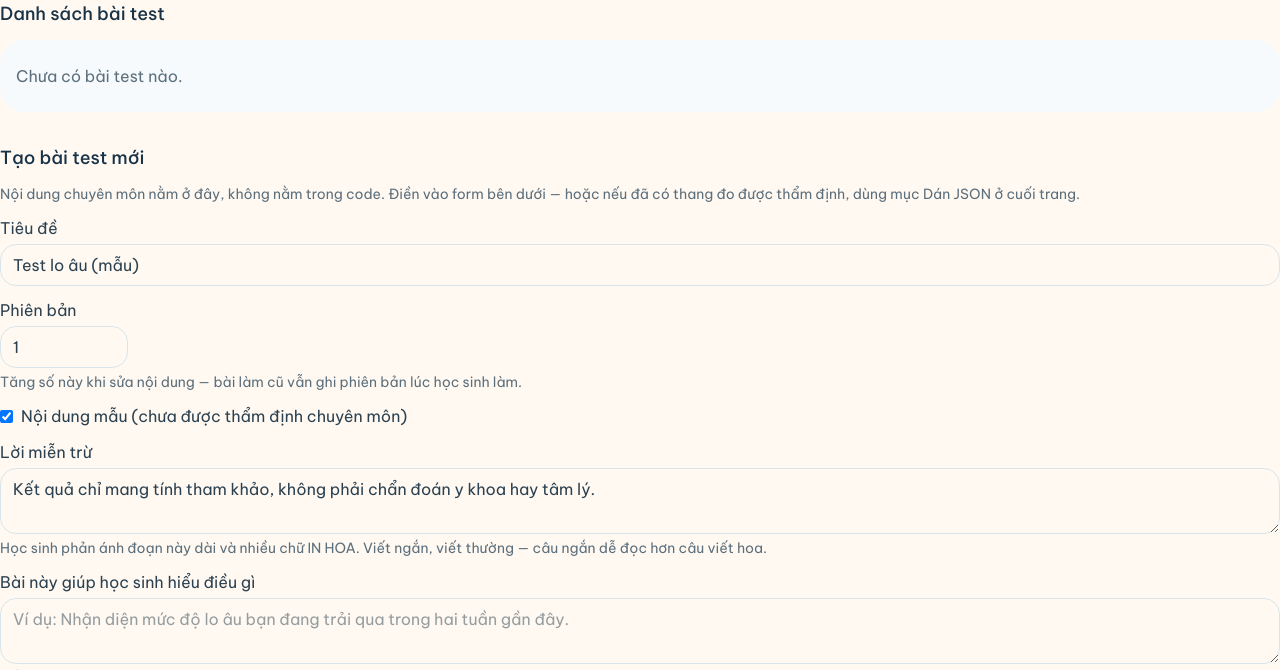
Test: TestEditor › form thiếu trường bắt buộc thì báo lỗi qua role=alert và KHÔNG gọi saveTest
Expected: the text "Chưa có bài test nào." is shown, top-left (0, 40), bottom-right (1279, 112)
Step 1. Clear the field labelled "Tiêu đề" → (640, 265), box top-left (0, 244), bottom-right (1279, 286)
(page scrolled)
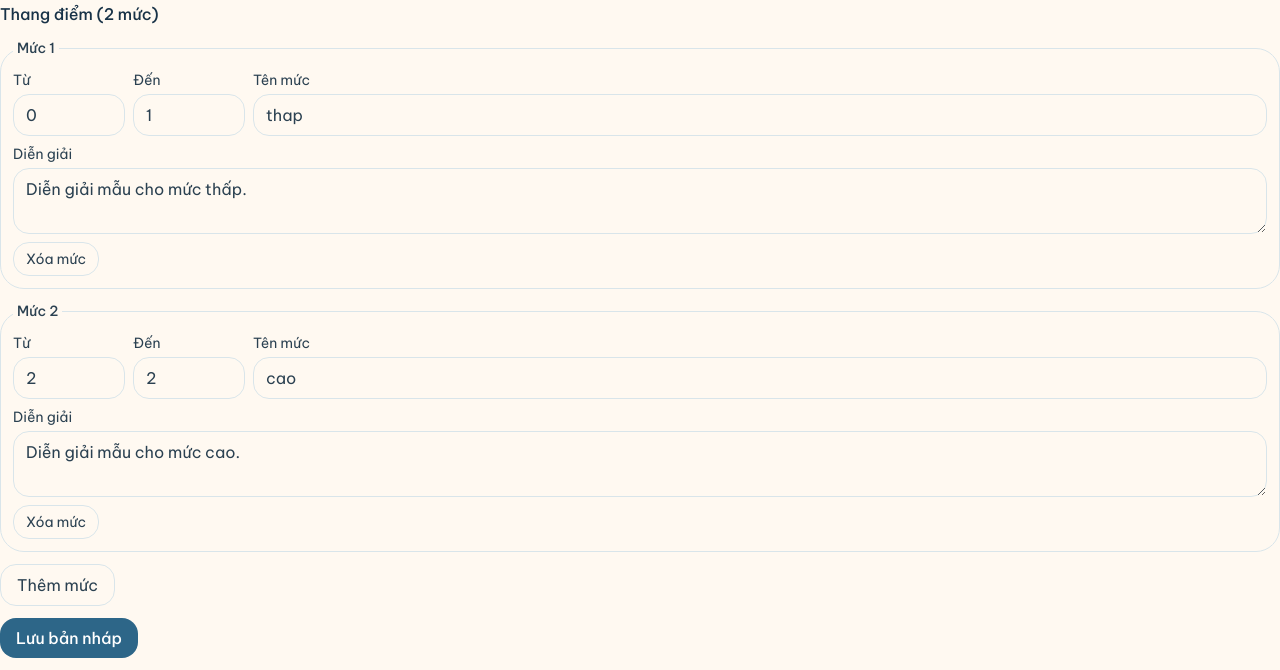
Step 2. Click the button "Lưu bản nháp" → (69, 638), box top-left (0, 618), bottom-right (138, 658)
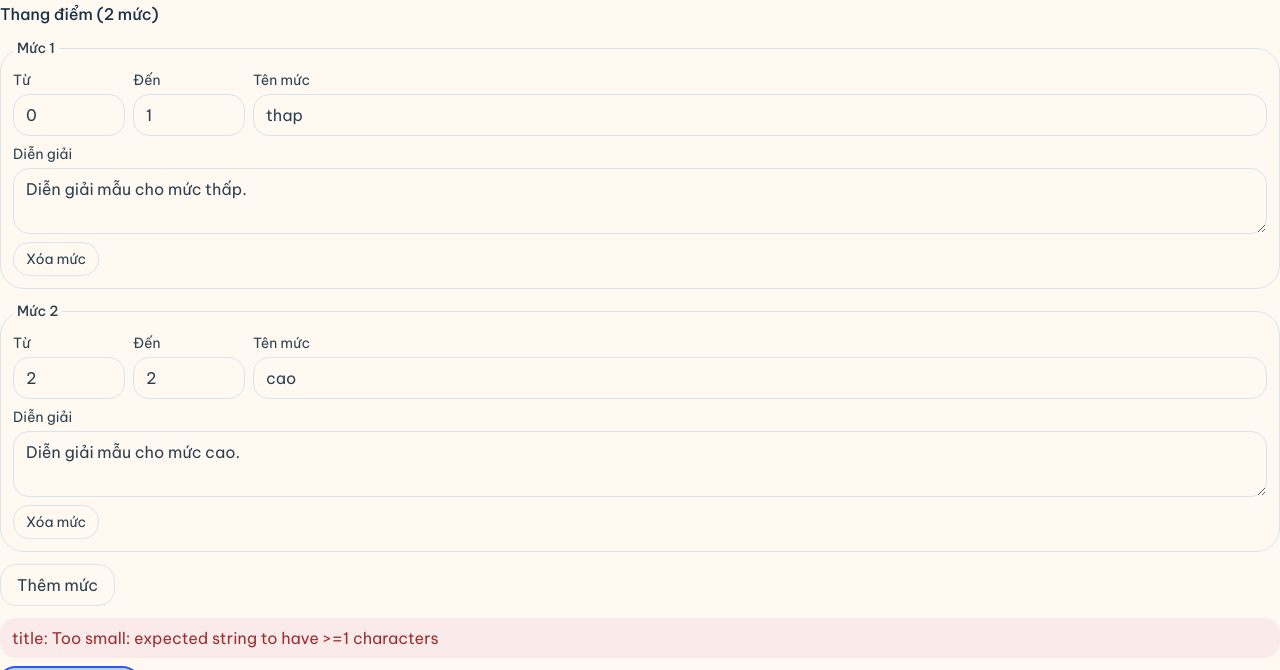
Now the message shows "title", box top-left (12, 628), bottom-right (439, 648)
